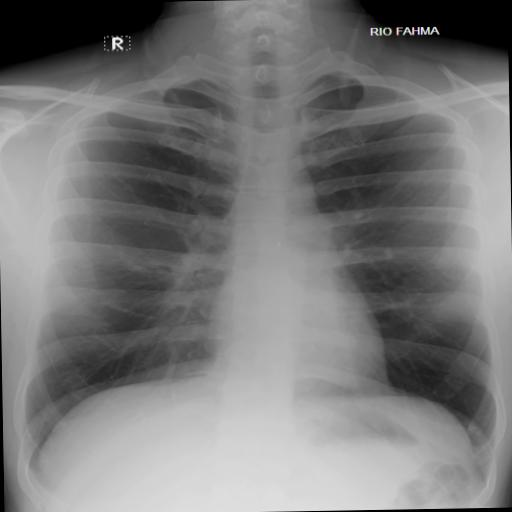normal: (12, 52, 506, 492)
